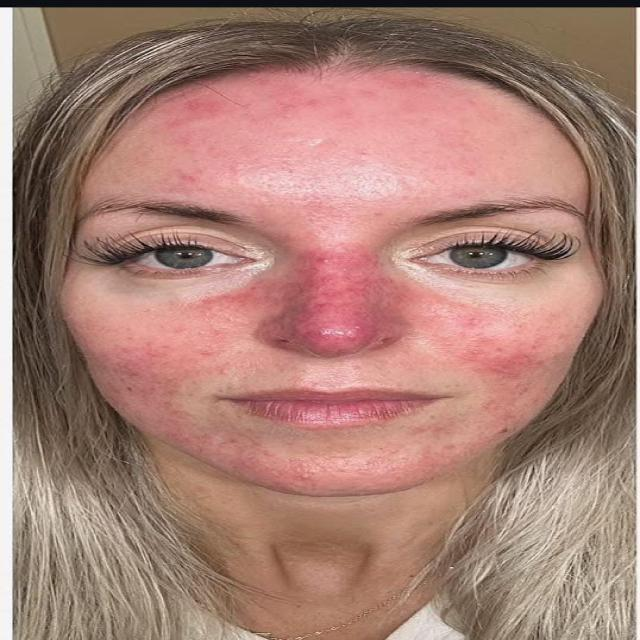Rosacea: (288, 251, 386, 354)
